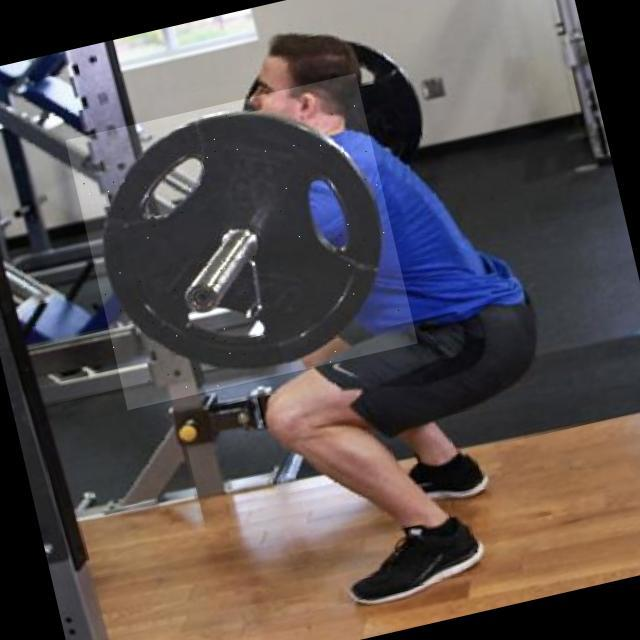barbell: (66, 74, 419, 411)
